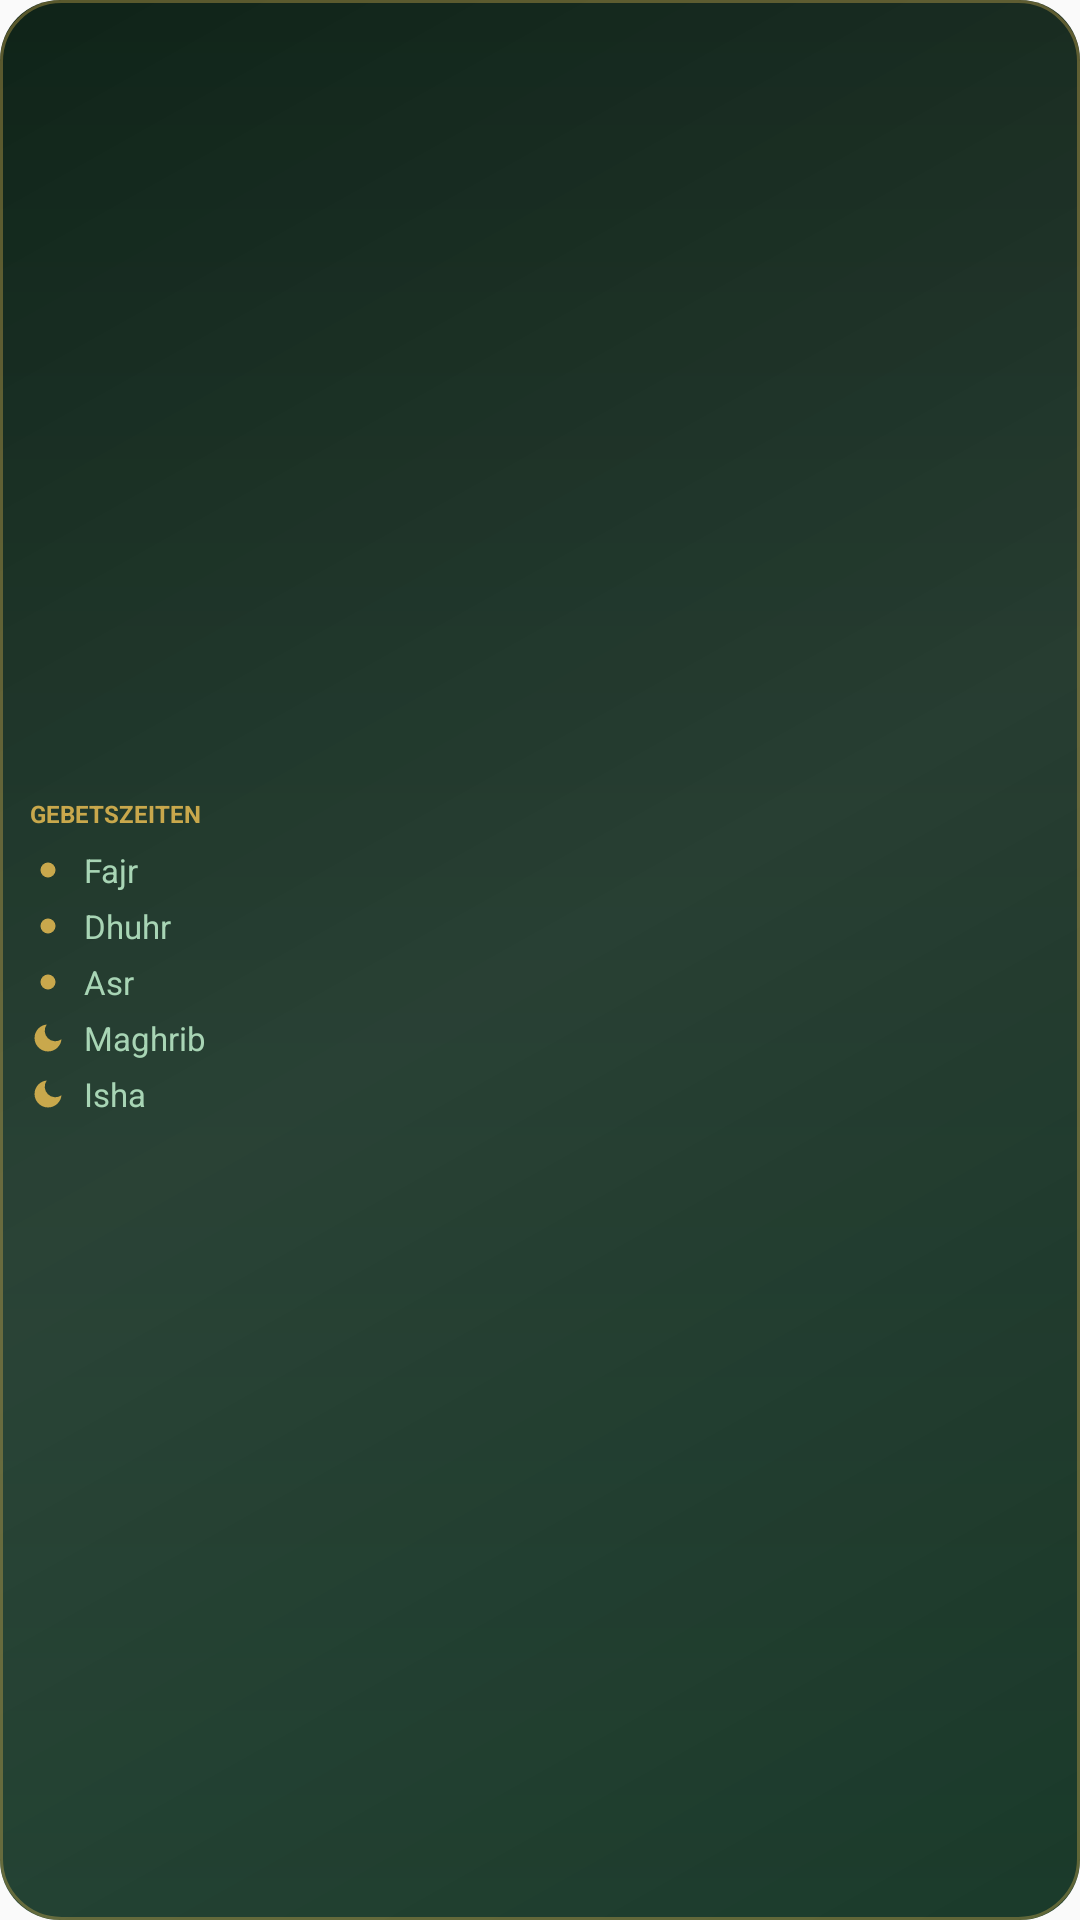

Icon click points for this 1080×1920 phone screenshot, format (x,y):
Abendgebet: (48,1038)
Nachtgebet: (48,1094)
